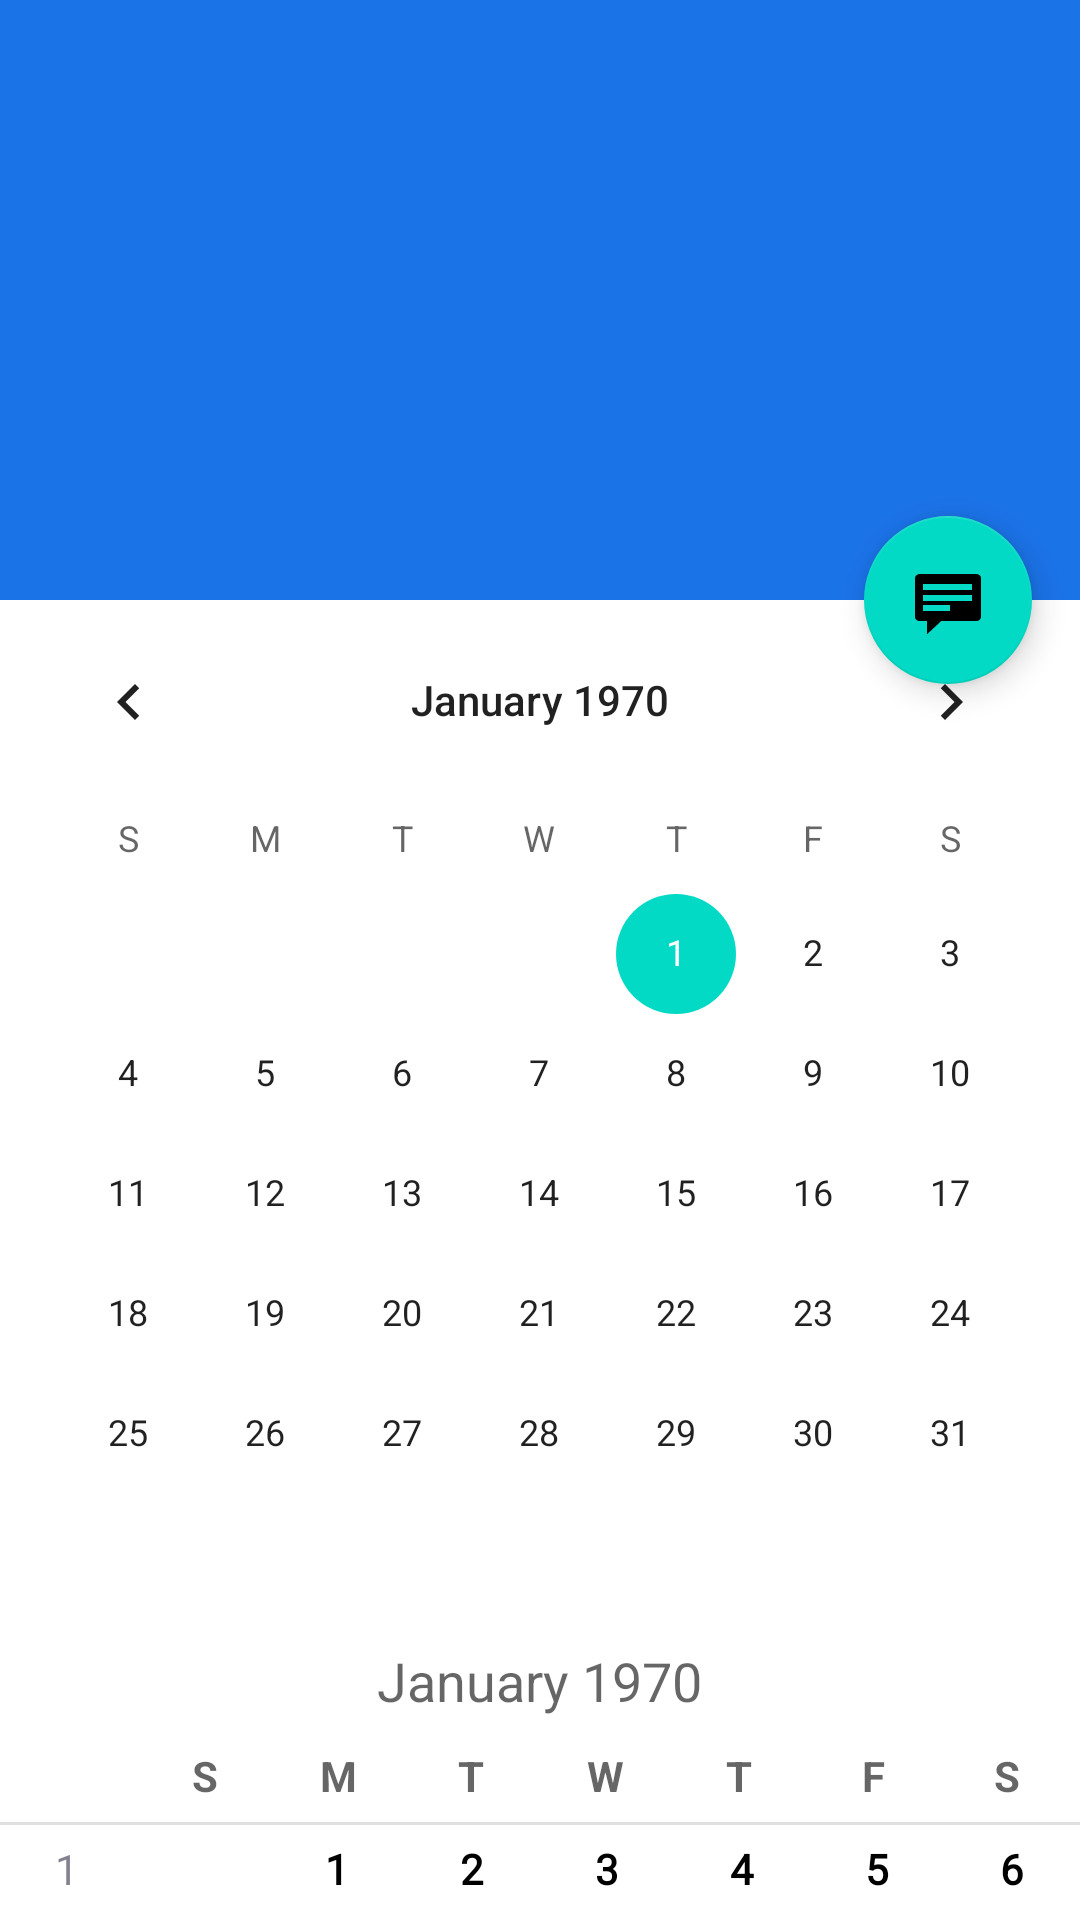

Screen size 1080 x 1920. Icon name, then its center in pixels as [x,y]:
chat: [948,600]
